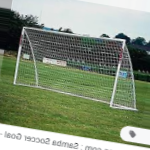goals: (10, 23, 140, 113)
